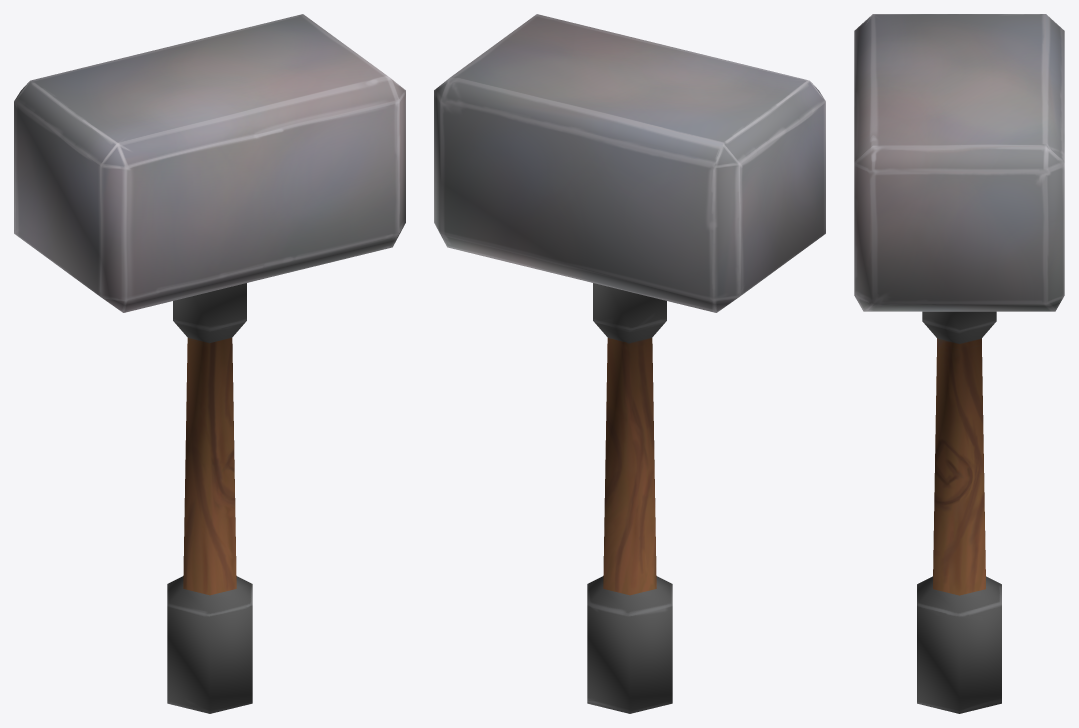
Rendered from blacksmith_39_s_hammer.fbx.
The picture shows the model from 3 angles, left to right: view 1: azimuth 30°, elevation 25°; view 2: azimuth 150°, elevation 25°; view 3: azimuth 270°, elevation 25°; orthographic projection.
Visible parts, largest first — view 1: Circle; view 2: Circle; view 3: Circle.
Part boxes in pixels (x1,y1,x2,y2): Circle: (14, 14, 405, 713); Circle: (434, 14, 825, 713); Circle: (854, 14, 1064, 713).
Size of the model in its own units: 698 by 1342 by 417.
